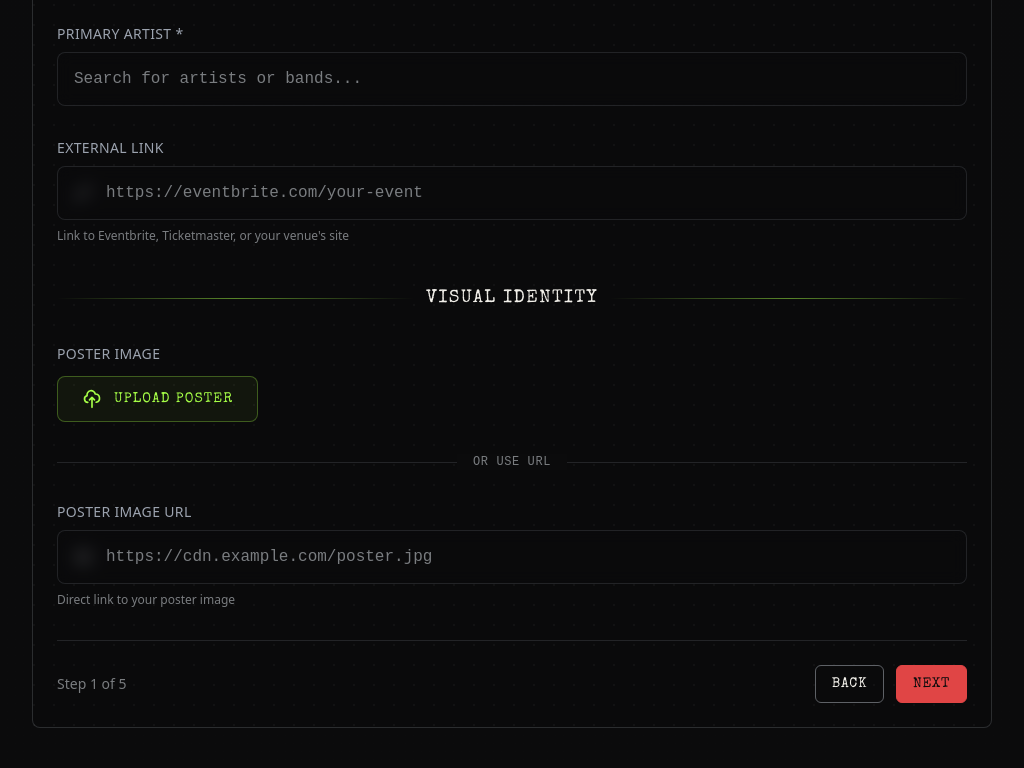
Test: NewEventPage wizard › surfaces validation errors when basics are incomplete
(page scrolled)
Click the button "Next" at (932, 684), box [896,665,967,703]
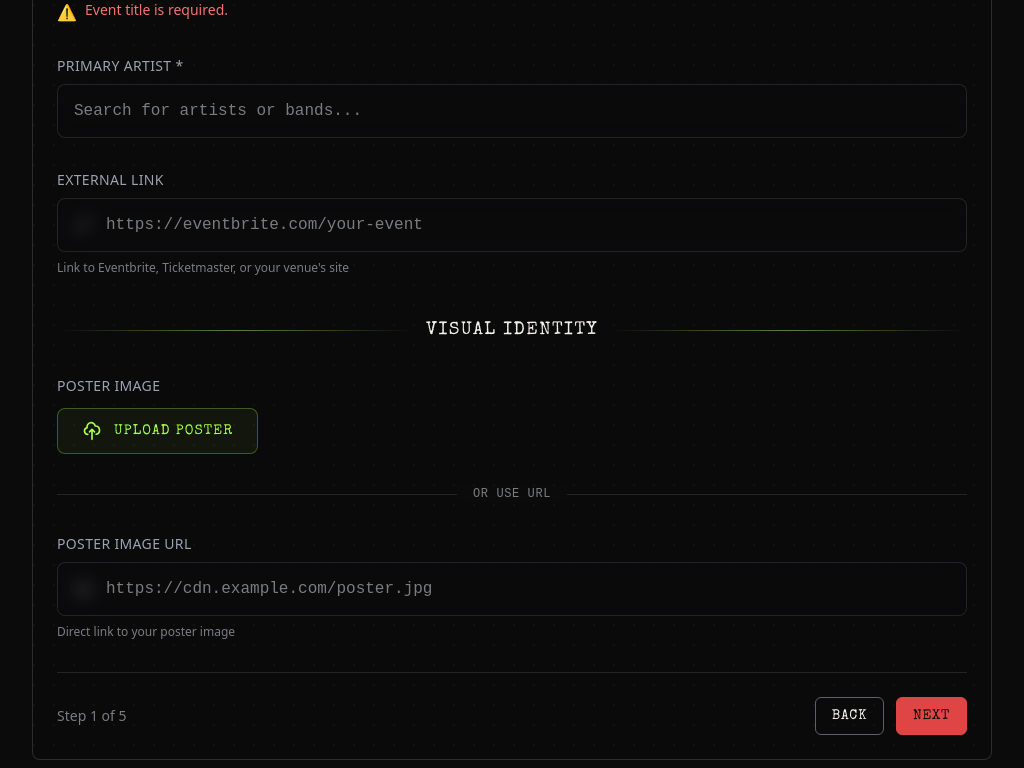
Expected: the text "Event title is required." is shown, [85,0,228,20]
